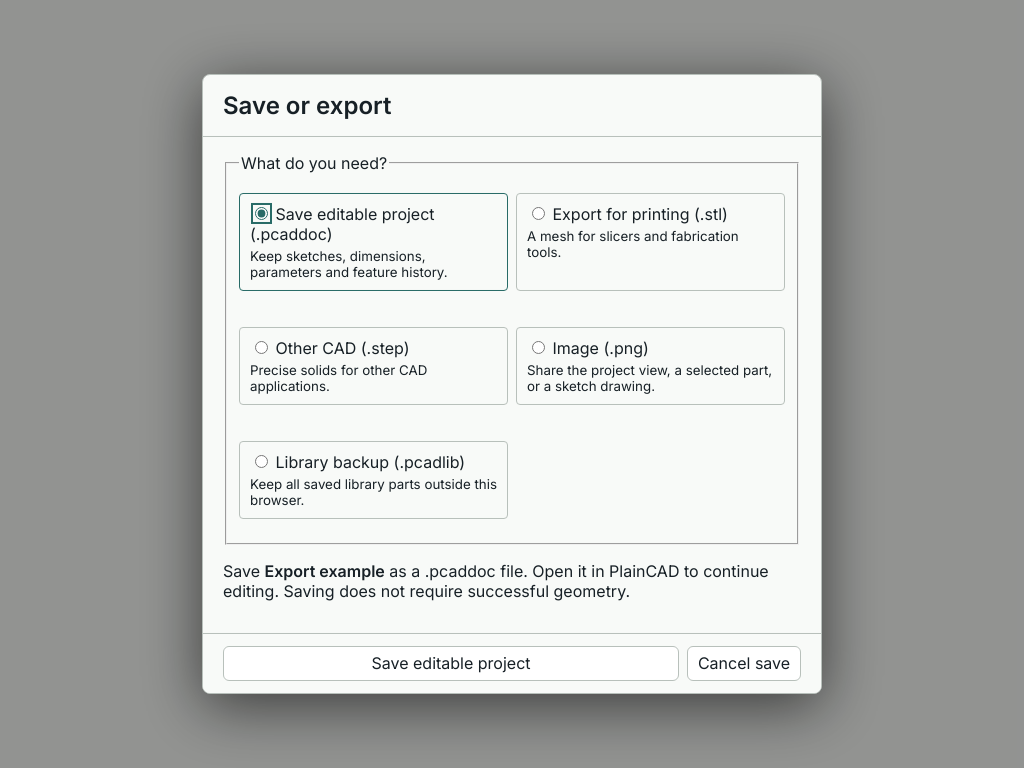
Test case: saves invalid geometry as editable data while requiring a current successful rebuild for STL
Check: the button "Save editable project" is enabled, box 223,646 -> 679,681
Click the radio button labelled "Export for printing": (538, 213) 532,207 -> 545,220
(page scrolled)
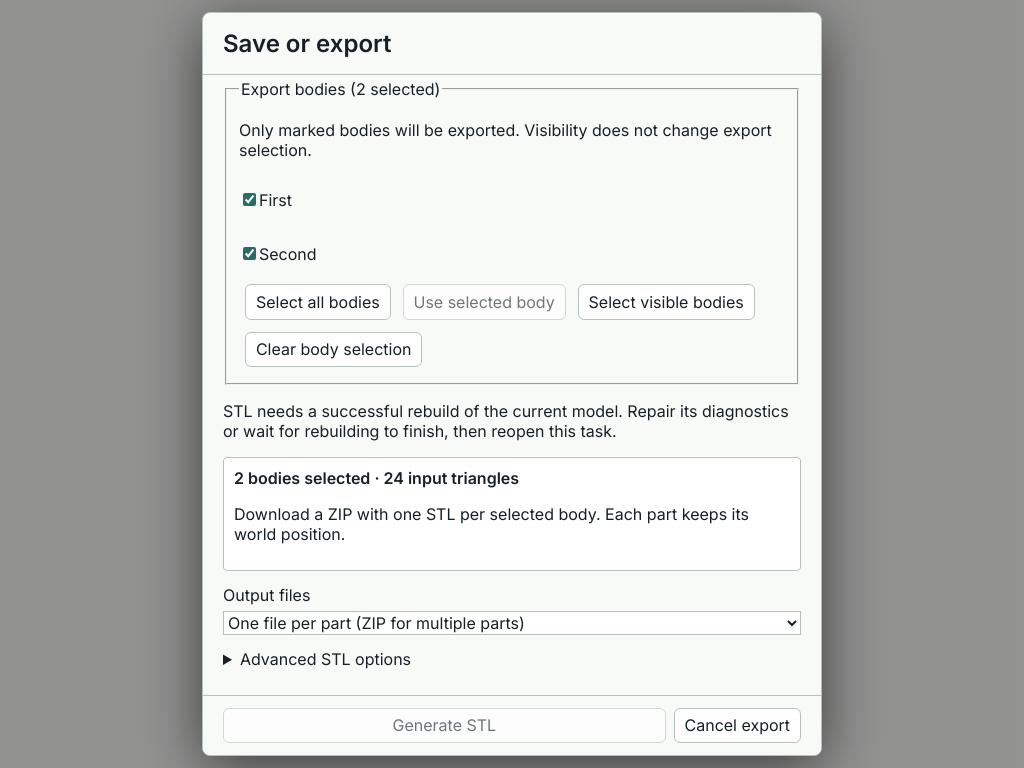
Check: the button "Generate STL" is disabled, box 223,708 -> 666,743
Check: the text "STL needs a successful rebuild" is shown, box 223,401 -> 789,441
